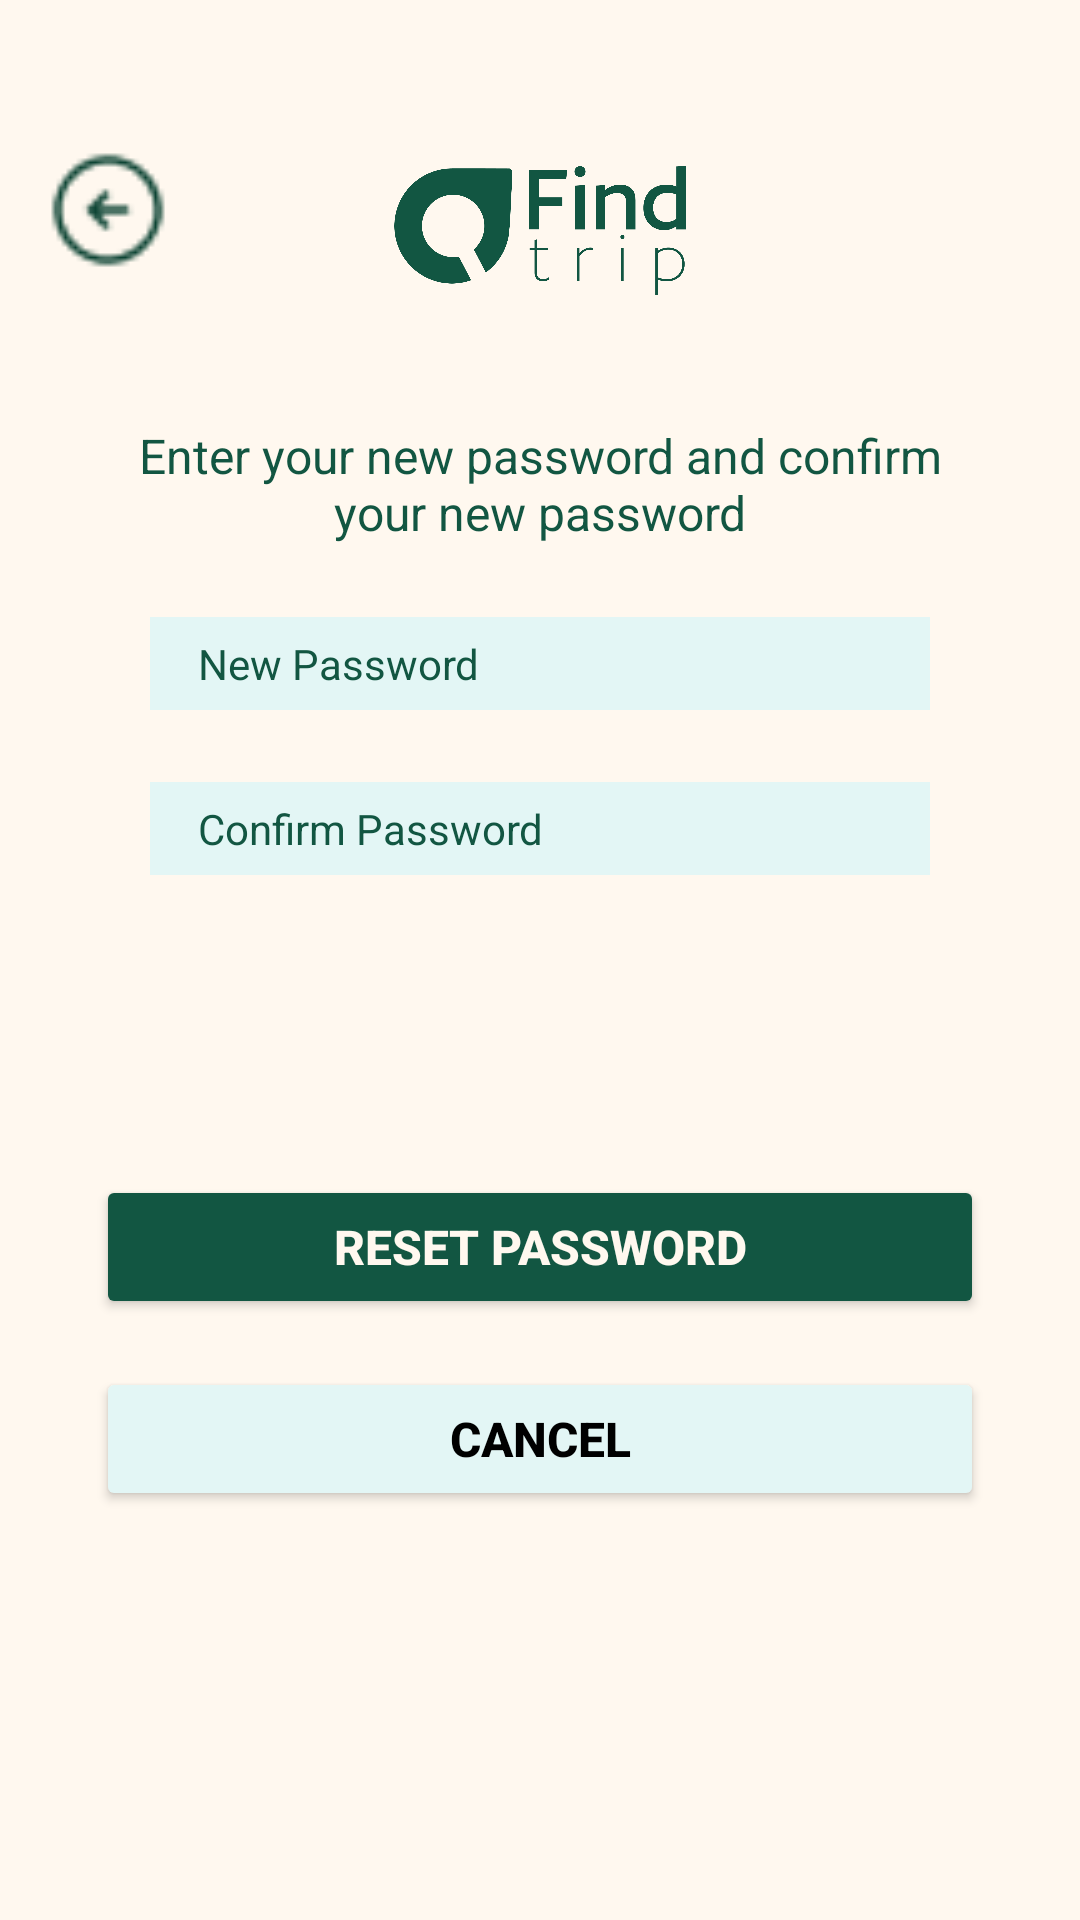

Where icons sit on this 1080x1920 app screen, as [x1=x1, y1=y1, x2=x2, y2=y2]:
back: [x1=51, y1=153, x2=165, y2=267]
